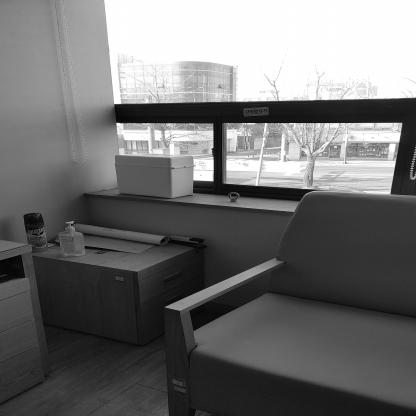DDL: (113, 153, 196, 198)
